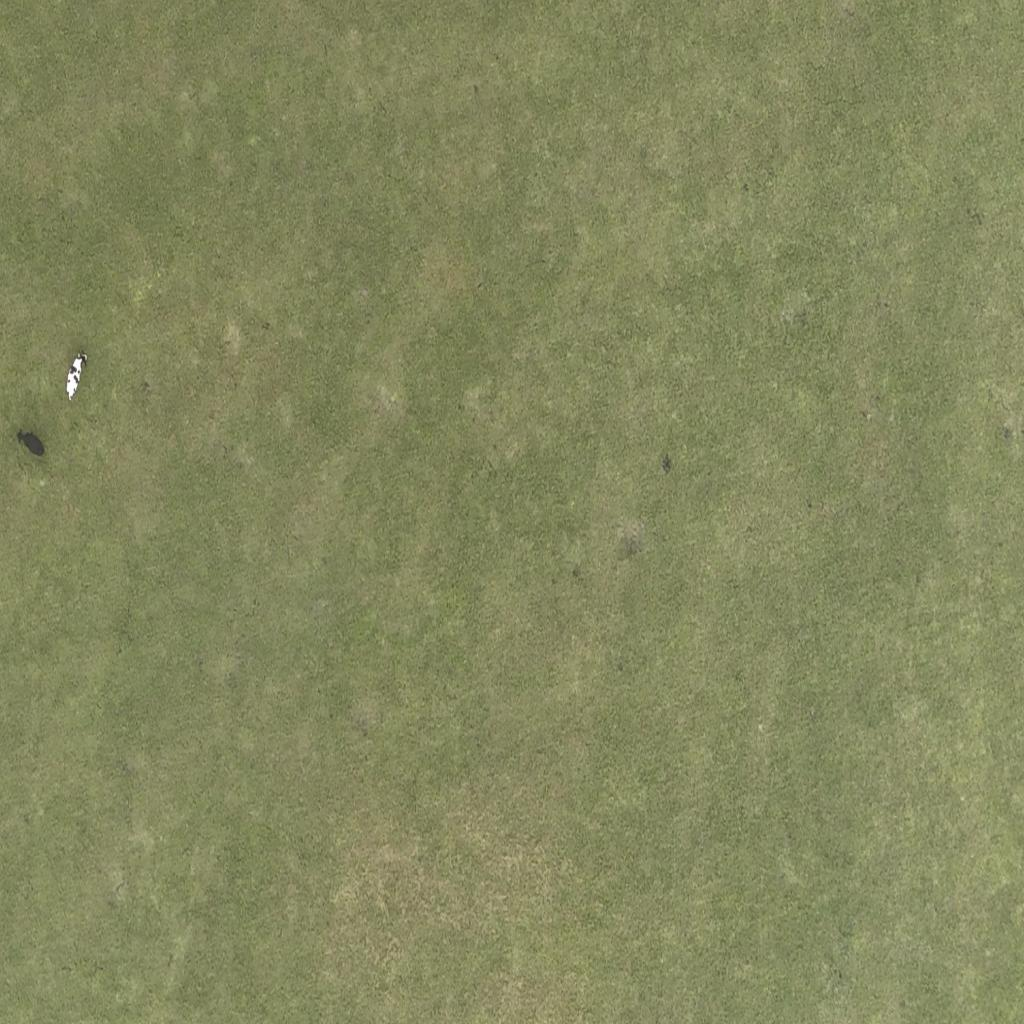cow: (65, 352, 87, 404), (16, 426, 49, 460)
